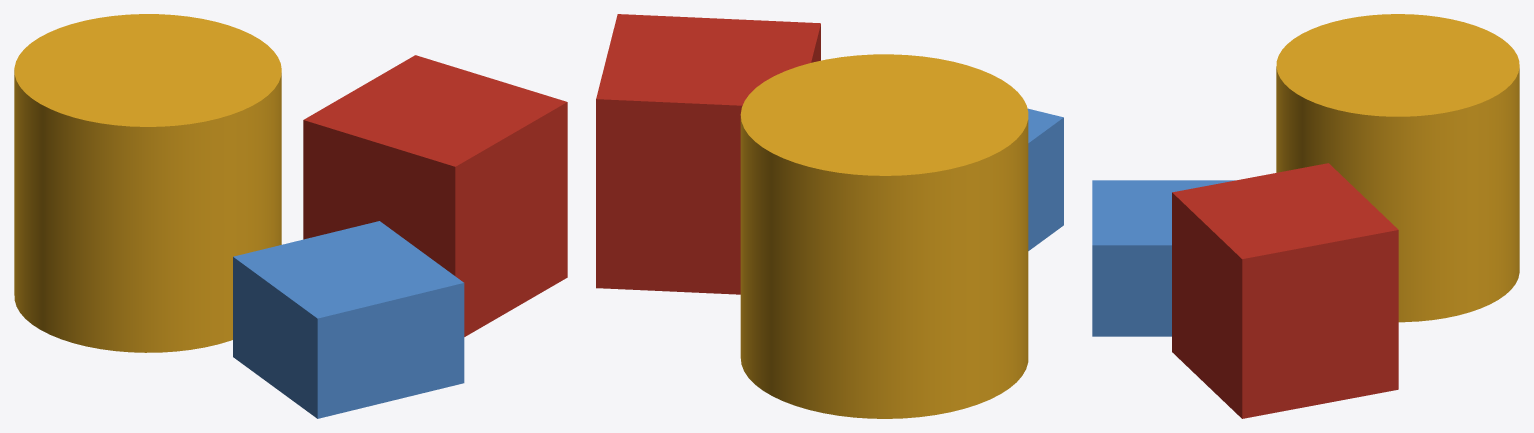
File: data-android.gltf
The picture shows the model from 3 angles, left to right: view 1: azimuth 30°, elevation 25°; view 2: azimuth 150°, elevation 25°; view 3: azimuth 270°, elevation 25°; orthographic projection. The views are drawn at different scales.
Parts seen in each view (by area): view 1: AR_Test_v0; view 2: AR_Test_v0; view 3: AR_Test_v0.
Part boxes in pixels (x1,y1,x2,y2): AR_Test_v0: (14,14,567,418); AR_Test_v0: (596,14,1063,418); AR_Test_v0: (1092,14,1519,418).
Size of the model in its own units: 188 by 90 by 170.
